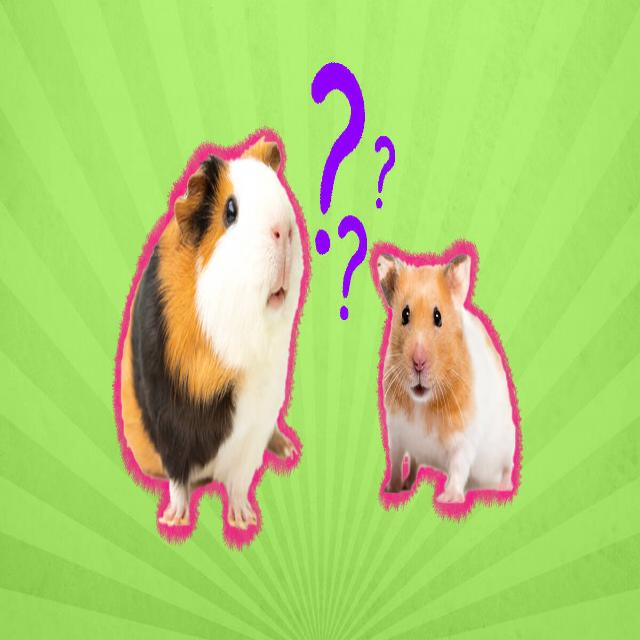hamster: (375, 248, 517, 502)
